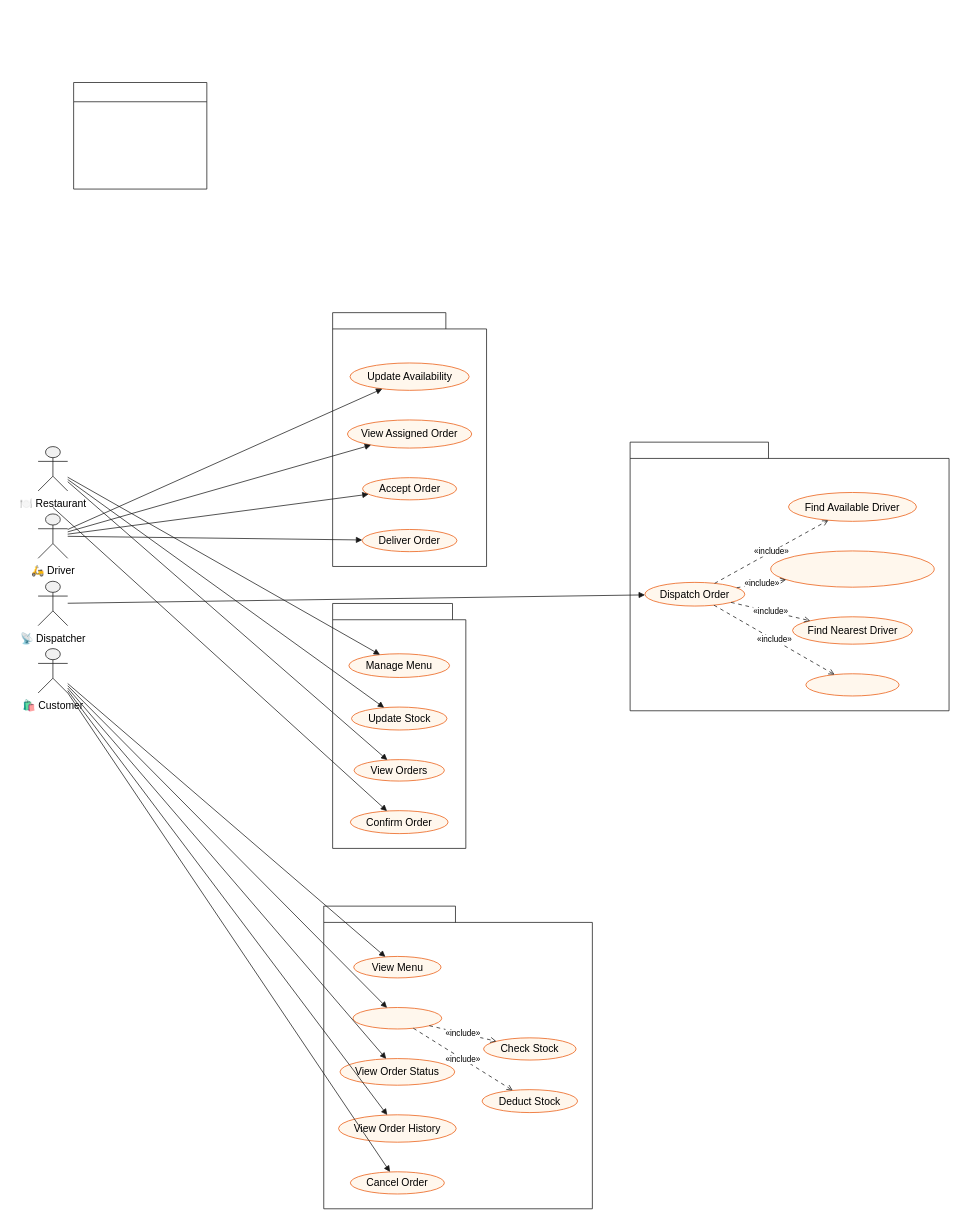
The diagram is 962 pixels wide and 1222 high, and some of its shapes have lost their labels. Here are the shapes that lost their labels. From the top down, the box of each, then its label:
(73, 82, 207, 189): 🍔 Food Delivery Network Simulation System
(332, 312, 487, 566): Driver Functions
(629, 441, 949, 711): Dispatcher Functions
(770, 550, 934, 587): Calculate Haversine Distance
(805, 673, 899, 696): Assign Driver
(332, 603, 466, 848): Restaurant Functions
(352, 1007, 442, 1029): Place Order
(323, 905, 592, 1209): Customer Functions
